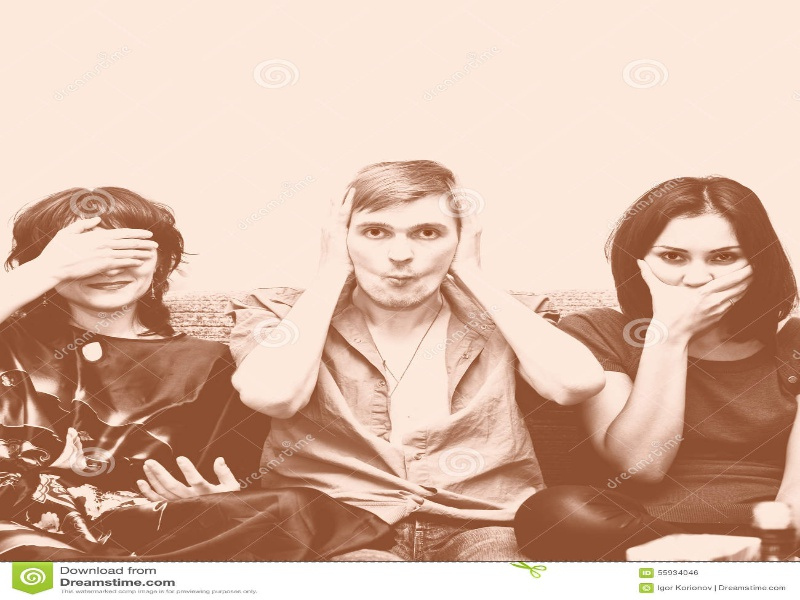TsisyArotava: (18, 185, 193, 341), (337, 154, 464, 319)
